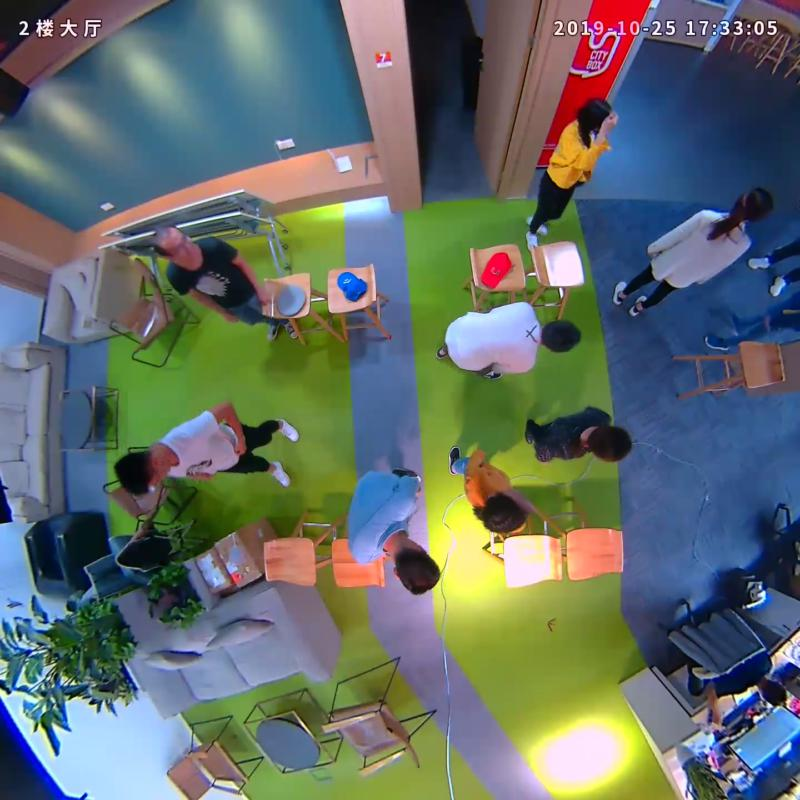head: (107, 447, 178, 499), (386, 539, 447, 599), (478, 490, 539, 538), (577, 422, 637, 466), (146, 220, 199, 267), (726, 184, 781, 228), (538, 312, 588, 354), (572, 92, 618, 135)
